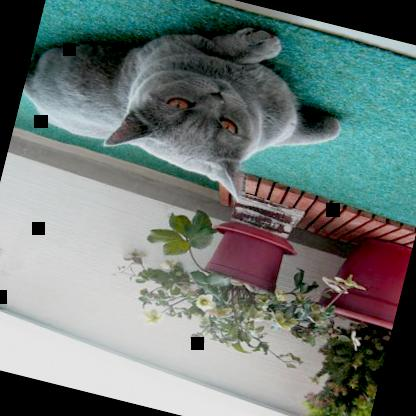cat: (10, 0, 360, 223)
